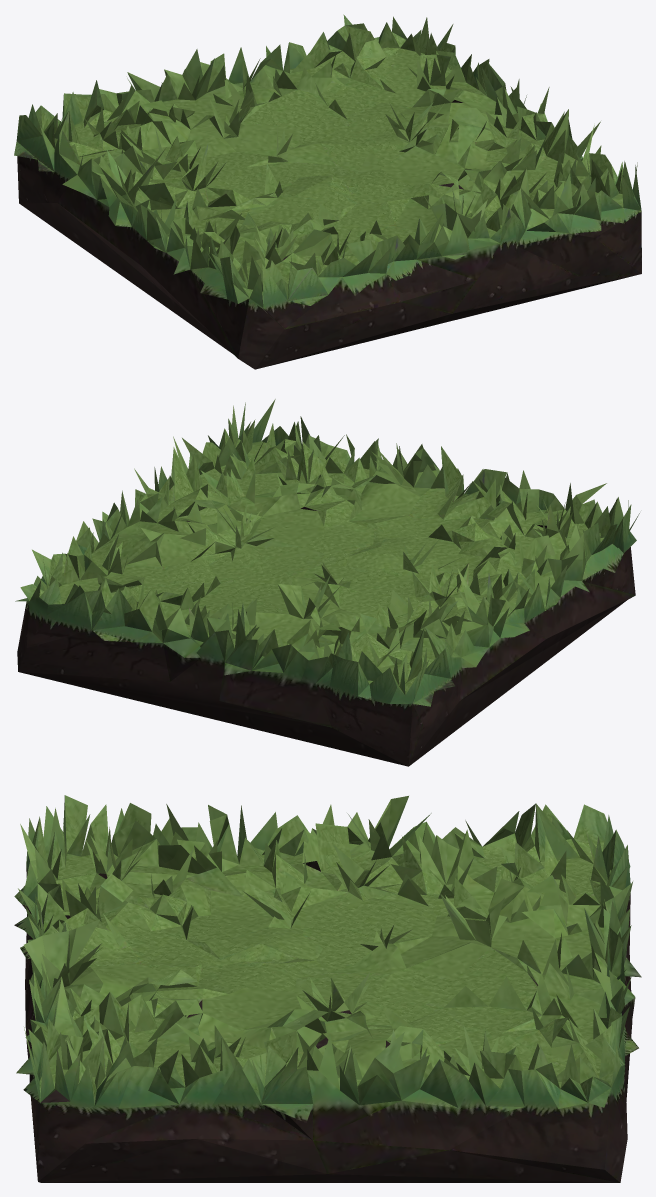
The model's file is tile-grass.glb.
3 views of the same model, one above another, from view 1: azimuth 30°, elevation 25°; view 2: azimuth 150°, elevation 25°; view 3: azimuth 270°, elevation 25° (orthographic). The views are drawn at different scales.
Parts seen in each view (by area): view 1: Mesh_0; view 2: Mesh_0; view 3: Mesh_0.
Part boxes in pixels (x1,y1,x2,y2): Mesh_0: (14,14,641,369); Mesh_0: (15,399,639,766); Mesh_0: (14,795,641,1182).
Size of the model in its own units: 1.88 by 0.4975 by 1.89.
Materials: 1 (1 with a texture image).
